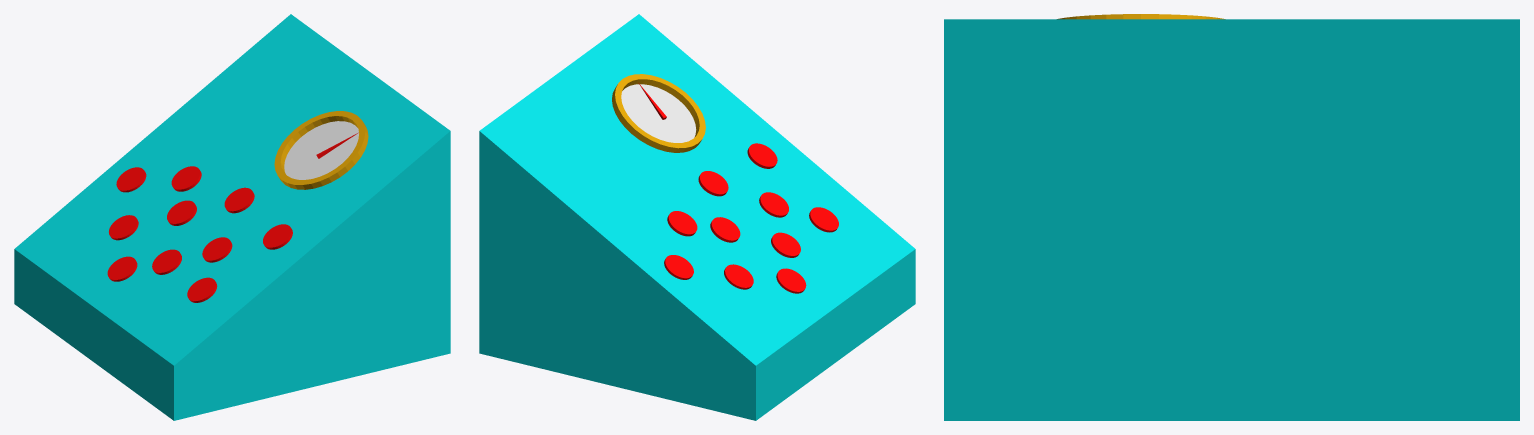
The model's file is ScienceShit 5.fbx.
The picture shows the model from 3 angles, left to right: view 1: azimuth 30°, elevation 25°; view 2: azimuth 150°, elevation 25°; view 3: azimuth 270°, elevation 25°; orthographic projection. The views are drawn at different scales.
Parts seen in each view (by area): view 1: Cube, Cylinder, Circle.007, Circle.008, Circle.013, Circle.006, Circle.012, Circle.009, Circle.011, Circle.001, Circle.010, Circle.003; view 2: Cube, Cylinder, Circle.006, Circle.012, Circle.007, Circle.008, Circle.009, Circle.013, Circle.001, Circle.010, Circle.003, Circle.011; view 3: Cube, Cylinder.
Boxes of the visible parts, left/top/right/bottom form: Cube: left=14, top=14, right=450, bottom=420; Cylinder: left=274, top=111, right=368, bottom=189; Circle.007: left=171, top=166, right=201, bottom=191; Circle.008: left=224, top=187, right=254, bottom=213; Circle.013: left=202, top=237, right=232, bottom=262; Circle.006: left=167, top=200, right=196, bottom=225; Circle.012: left=263, top=224, right=292, bottom=249; Circle.009: left=152, top=249, right=181, bottom=274; Circle.011: left=116, top=167, right=146, bottom=192; Circle.001: left=187, top=277, right=217, bottom=302; Circle.010: left=107, top=256, right=137, bottom=281; Circle.003: left=109, top=215, right=138, bottom=240; Cube: left=479, top=14, right=915, bottom=420; Cylinder: left=612, top=74, right=705, bottom=152; Circle.006: left=710, top=217, right=740, bottom=242; Circle.012: left=747, top=143, right=777, bottom=168; Circle.007: left=667, top=211, right=697, bottom=236; Circle.008: left=698, top=171, right=728, bottom=196; Circle.009: left=771, top=232, right=800, bottom=257; Circle.013: left=759, top=192, right=788, bottom=217; Circle.001: left=809, top=207, right=838, bottom=232; Circle.010: left=776, top=268, right=806, bottom=293; Circle.003: left=724, top=264, right=753, bottom=289; Circle.011: left=664, top=255, right=693, bottom=279; Cube: left=944, top=19, right=1519, bottom=420; Cylinder: left=1057, top=14, right=1225, bottom=19.
Size of the model in its own units: 200 by 154 by 200.
